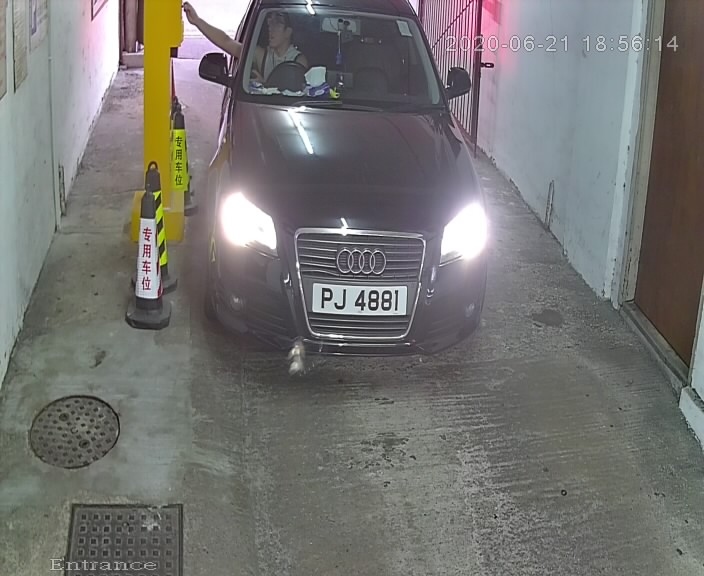privatecar: (191, 1, 519, 398)
